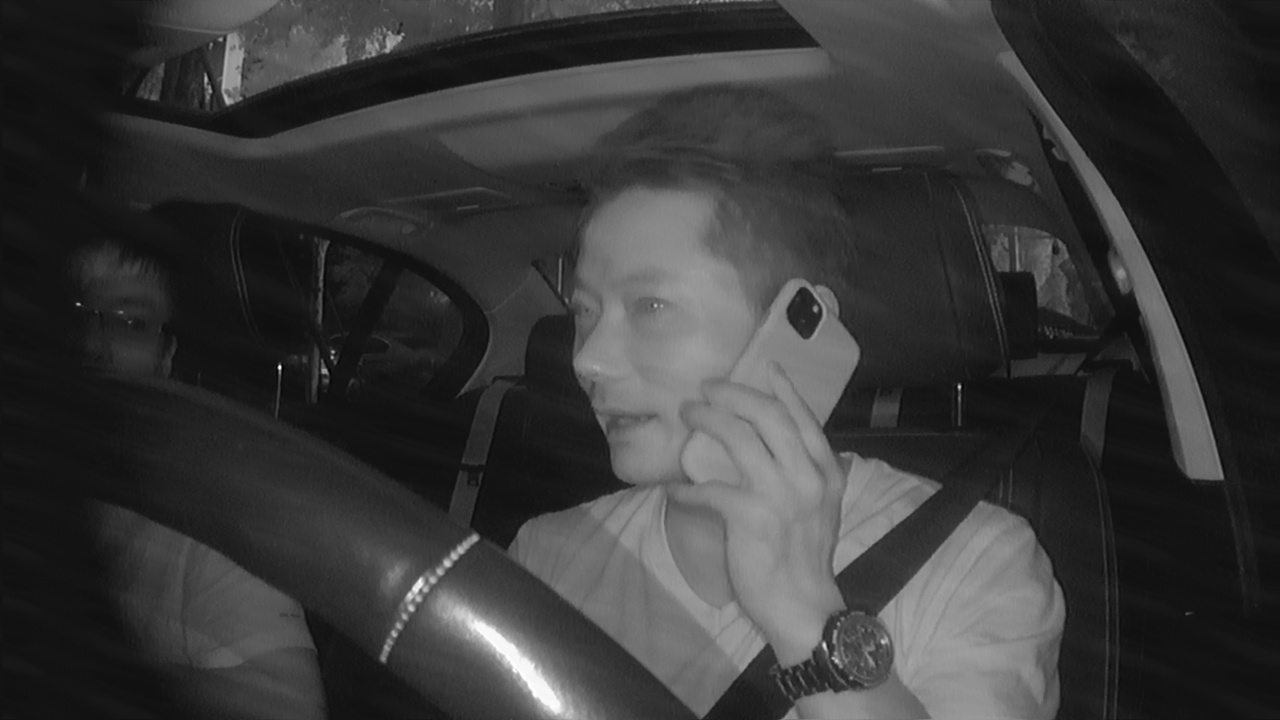hand: (664, 371, 845, 629)
